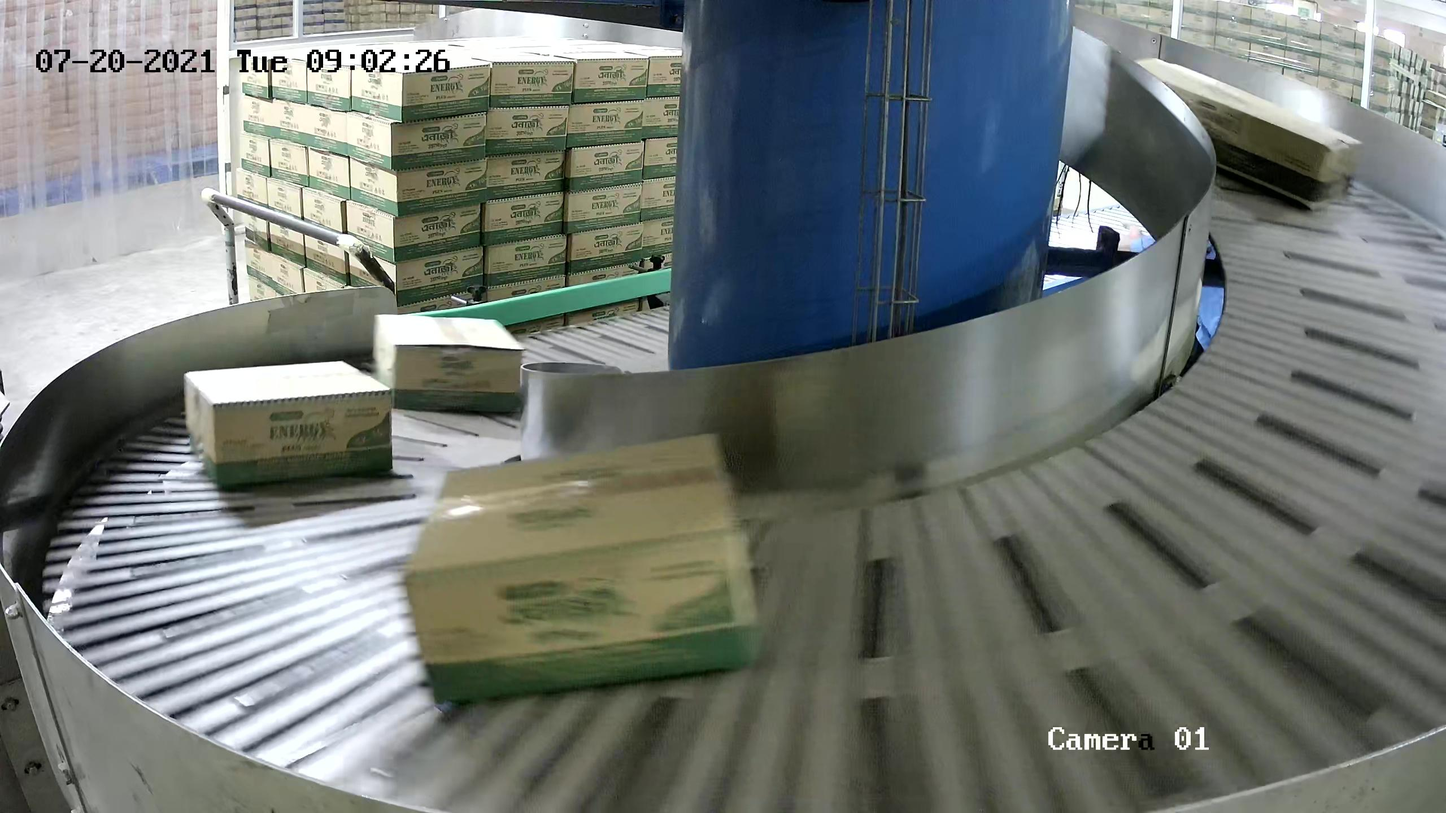Box: (398, 432, 766, 703), (1098, 52, 1365, 212), (182, 357, 395, 491), (367, 315, 521, 415)
